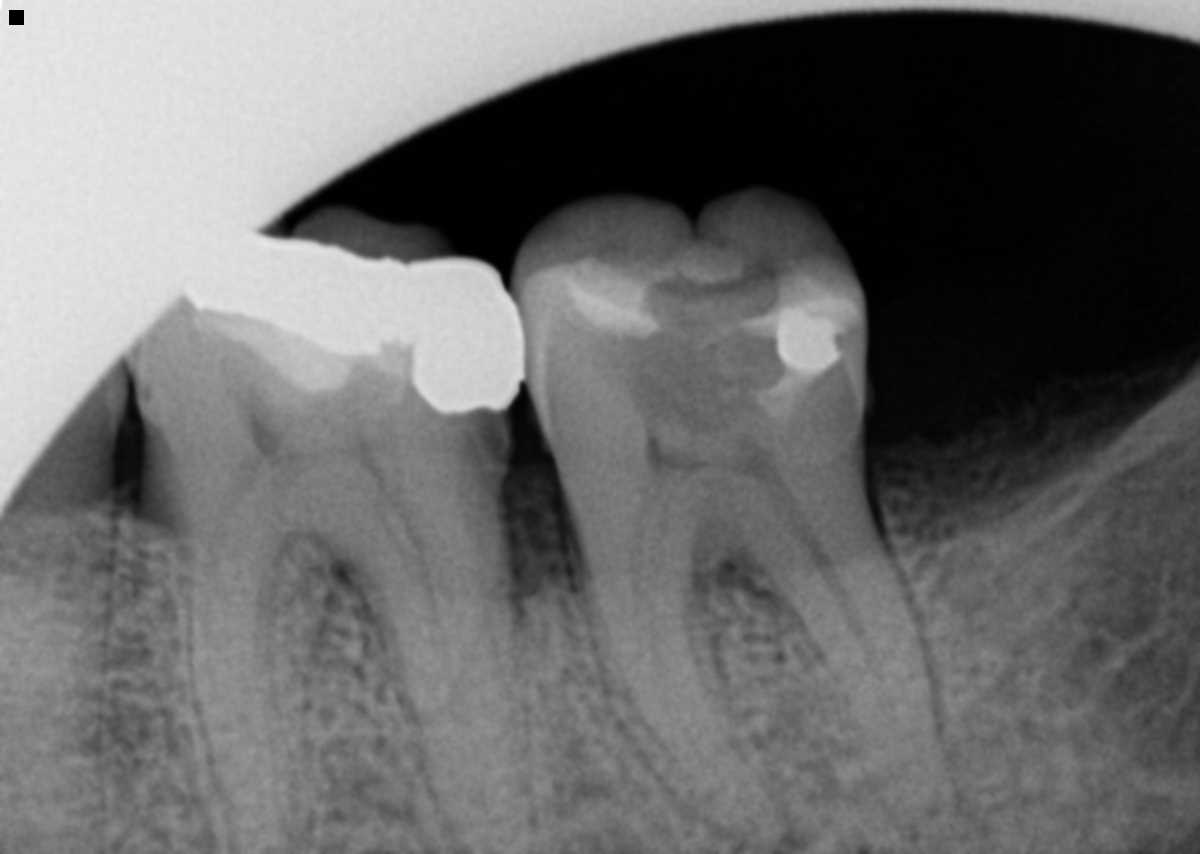Apical Lesion: (768, 727, 838, 846)
Distal Canal: (781, 493, 915, 780)
Distal Root: (751, 459, 958, 833), (344, 512, 525, 854)
Main Root: (0, 512, 116, 854)
Mesial Canal: (635, 531, 675, 704)
Mesial Root: (585, 525, 790, 837), (133, 551, 321, 854)
decay: (628, 271, 783, 425)
